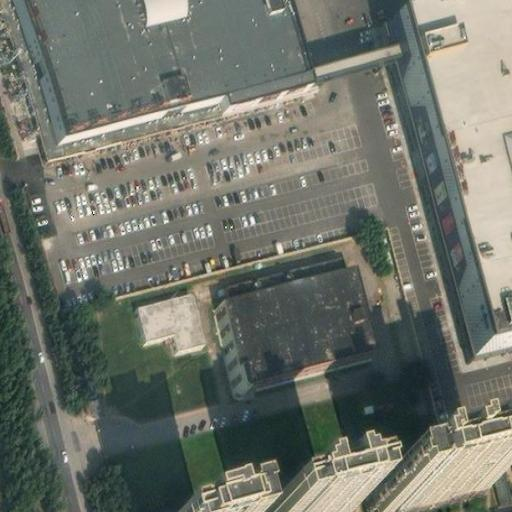building: (397, 0, 512, 337), (213, 268, 370, 388), (364, 453, 488, 510), (220, 249, 348, 300), (299, 36, 410, 78), (138, 286, 205, 346), (265, 491, 338, 512)
